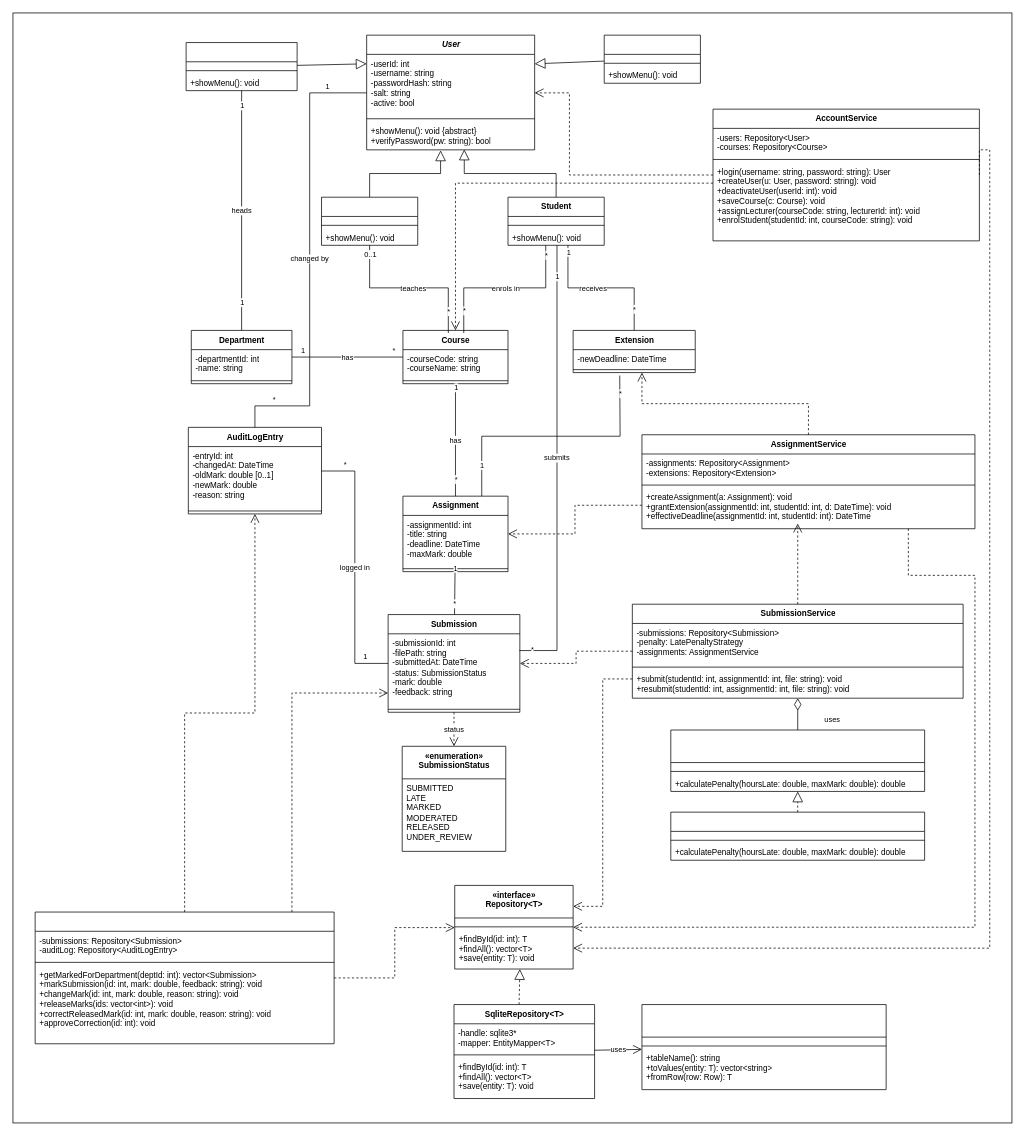
This 1025x1136 diagram has some shape labels left out. Here are the shapes that lost their labels. From the top down, the box of each, then its label:
(185, 42, 297, 91): HeadOfDepartment
(603, 34, 700, 83): Administrator
(321, 196, 418, 245): Lecturer
(670, 729, 925, 791): «interface» LatePenaltyStrategy
(670, 811, 925, 860): StandardLatePenalty
(34, 911, 334, 1044): ModerationService
(641, 1004, 886, 1090): «interface» EntityMapper<T>
